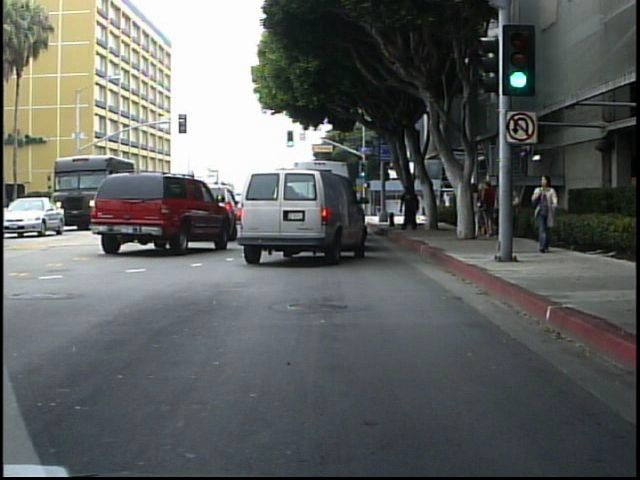person: (529, 171, 563, 260), (505, 174, 527, 258), (482, 172, 504, 244), (465, 176, 487, 246), (401, 181, 422, 236), (413, 185, 427, 221)
